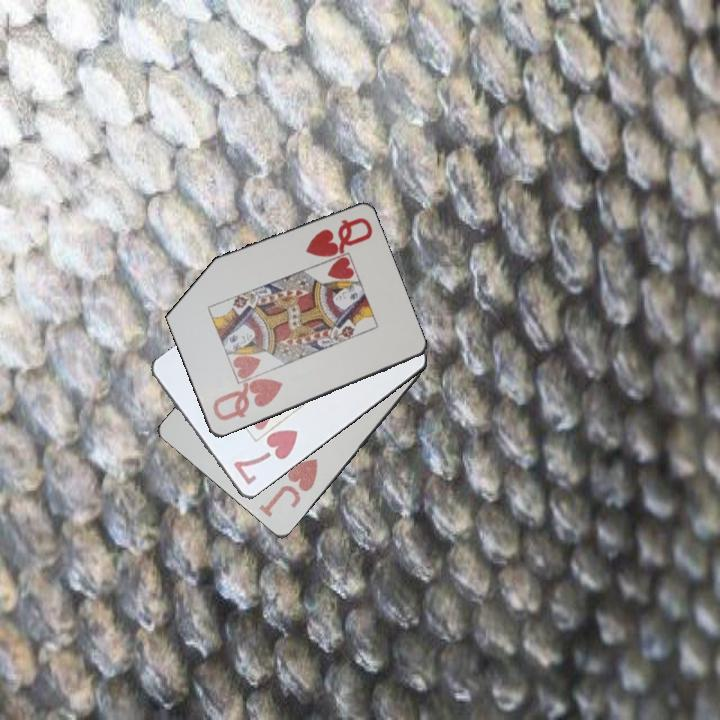7h: (230, 426, 301, 488)
Jh: (255, 454, 321, 521)
Qh: (209, 374, 286, 424), (302, 214, 375, 260)
